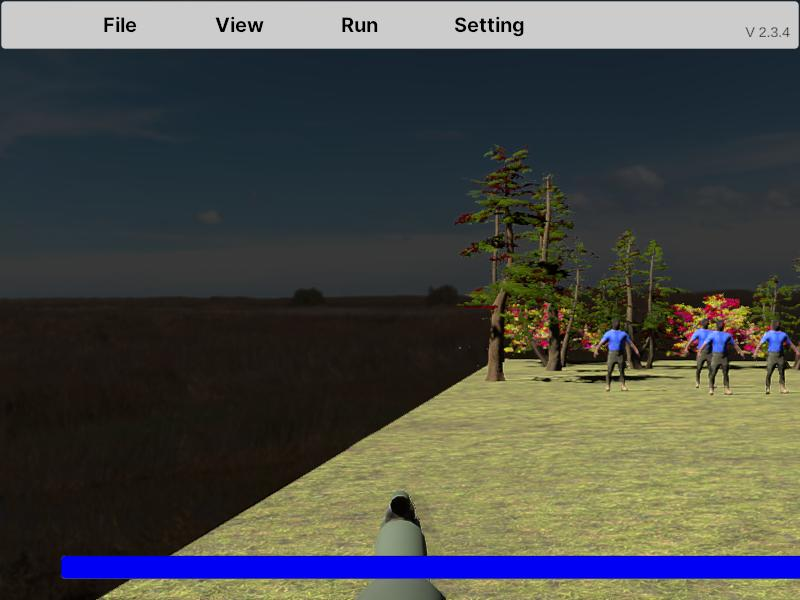Human: (754, 319, 799, 394), (595, 318, 640, 392), (699, 319, 742, 395), (685, 318, 722, 388)
